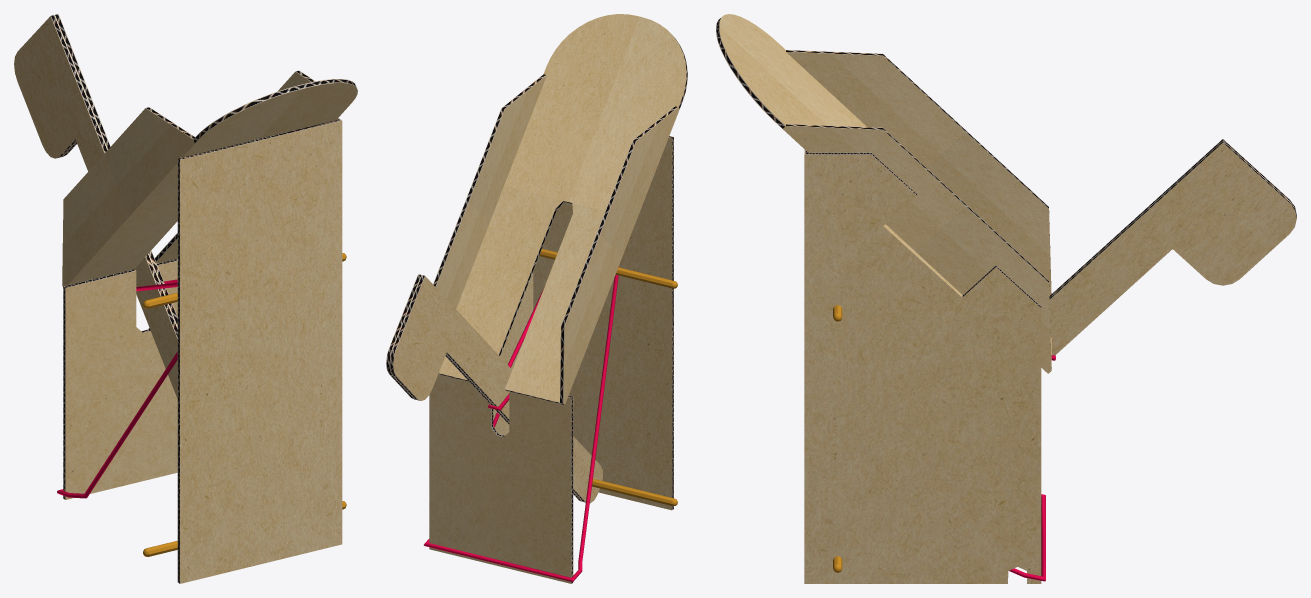
File: Катапульта.fbx
3 views of the same model, side by side, from view 1: azimuth 30°, elevation 25°; view 2: azimuth 150°, elevation 25°; view 3: azimuth 270°, elevation 25° (orthographic). The views are drawn at different scales.
Parts seen in each view (by area): view 1: Box, Top, Boo, Elastic; view 2: Top, Box, Boo, Elastic, Toothpick_2, Toothpick_1; view 3: Box, Top, Boo.
Part boxes in pixels (box(x1,y1,x2,y2)): Box: box(63, 118, 342, 583); Top: box(62, 70, 357, 287); Boo: box(14, 14, 177, 398); Elastic: box(57, 279, 177, 498); Top: box(433, 14, 687, 404); Box: box(429, 136, 673, 583); Boo: box(386, 274, 602, 503); Elastic: box(424, 266, 618, 582); Toothpick_2: box(592, 478, 677, 505); Toothpick_1: box(539, 248, 677, 288); Box: box(804, 149, 1041, 583); Top: box(716, 14, 1051, 373); Boo: box(1049, 139, 1296, 355).
Bounding box in the file's own units: 50 × 120 × 123.
7 materials, 5 textured.
